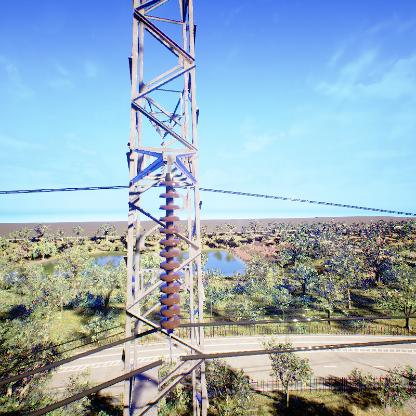insulator: (157, 177, 182, 334)
